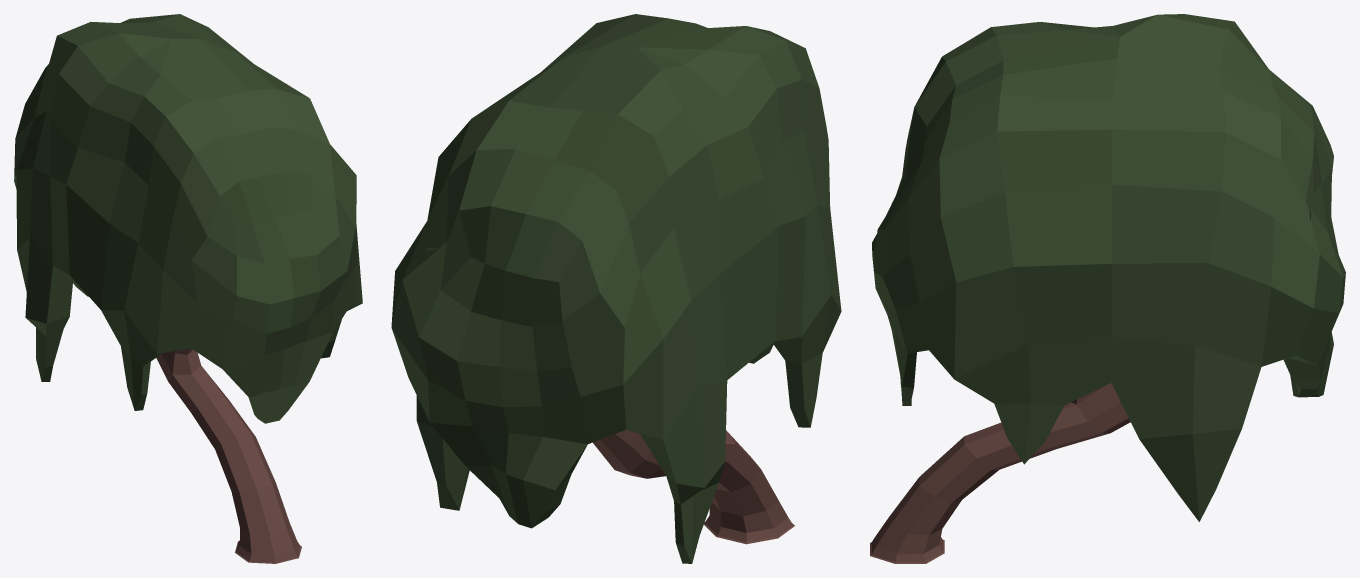
Rendered from Willow_3-transformed.glb.
The picture shows the model from 3 angles, left to right: view 1: azimuth 30°, elevation 25°; view 2: azimuth 150°, elevation 25°; view 3: azimuth 270°, elevation 25°; orthographic projection. The views are drawn at different scales.
Visible parts, largest first — view 1: Willow_3; view 2: Willow_3; view 3: Willow_3.
Part boxes in pixels (bbox=[...]): Willow_3: bbox=[14, 14, 362, 563]; Willow_3: bbox=[391, 14, 841, 563]; Willow_3: bbox=[870, 14, 1345, 563].
Size of the model in its own units: 1.32 by 2.35 by 1.98.
